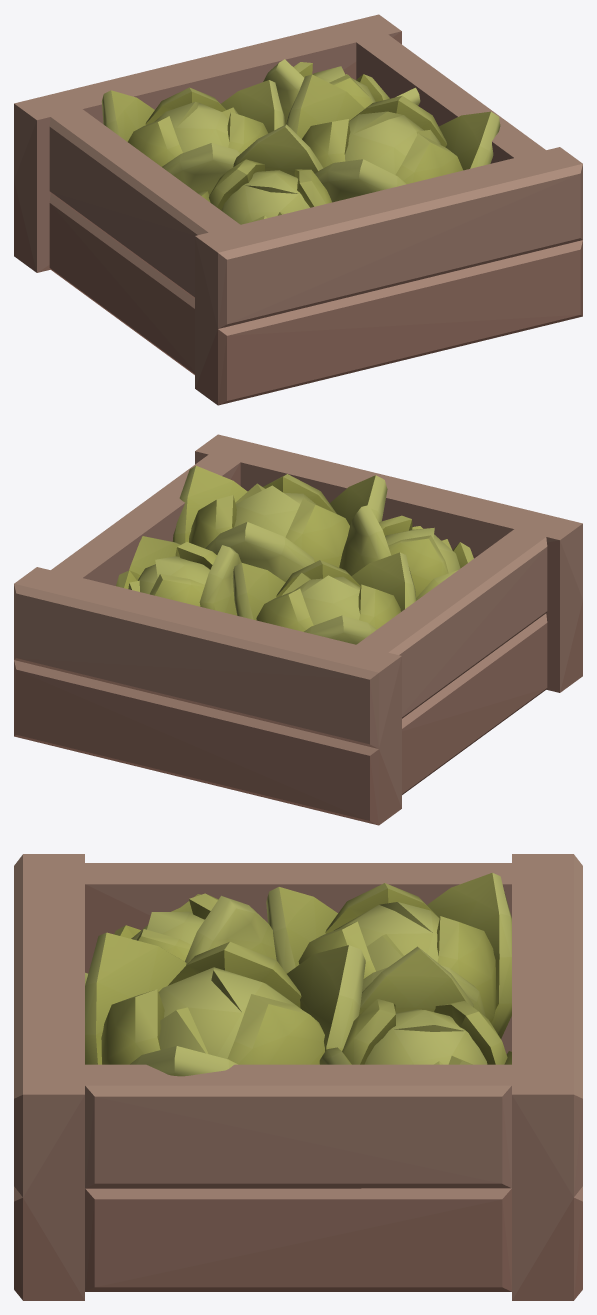
Rendered from caixote_alface.fbx.
3 views of the same model, one above another, from view 1: azimuth 30°, elevation 25°; view 2: azimuth 150°, elevation 25°; view 3: azimuth 270°, elevation 25° (orthographic). The views are drawn at different scales.
Parts seen in each view (by area): view 1: crate_lettuce; view 2: crate_lettuce; view 3: crate_lettuce.
Boxes of the visible parts, x1=… form: crate_lettuce: x1=14, y1=14, x2=582, y2=405; crate_lettuce: x1=14, y1=434, x2=582, y2=825; crate_lettuce: x1=14, y1=854, x2=582, y2=1300.
Size of the model in its own units: 200 by 99.81 by 200.
